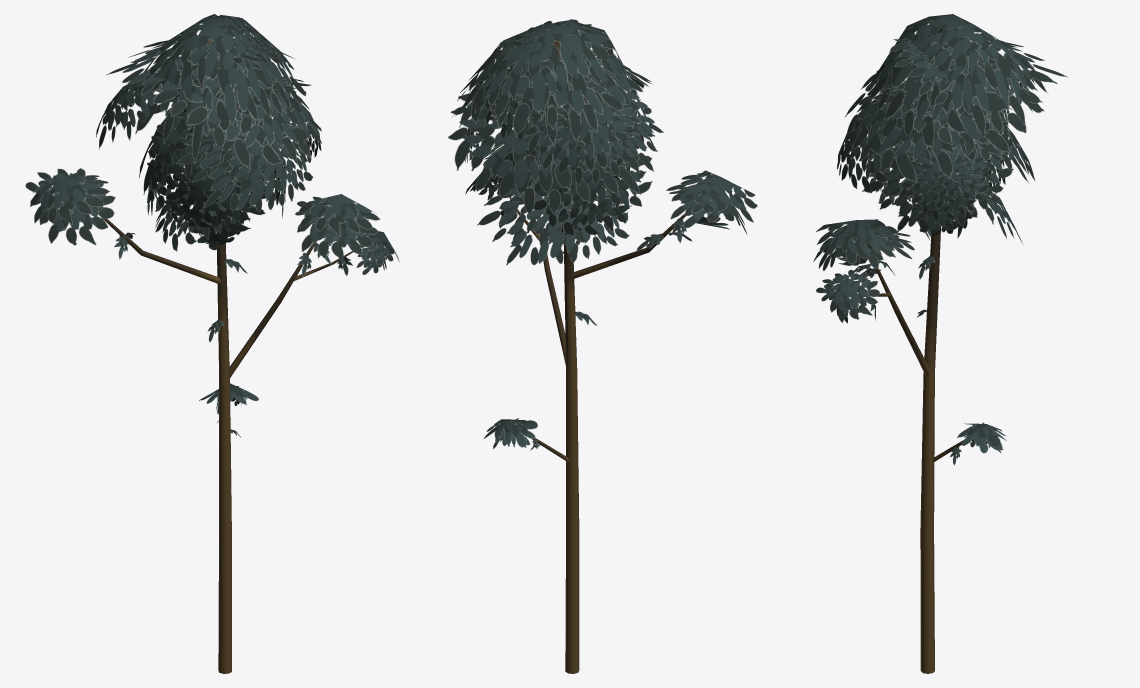
File: env_tree_tallleaf1_painty_01_v1.glb
3 renders of one model, left to right at view 1: azimuth 30°, elevation 25°; view 2: azimuth 150°, elevation 25°; view 3: azimuth 270°, elevation 25°, orthographic. The views are drawn at different scales.
Visible parts, largest first — view 1: Cylinder.002; view 2: Cylinder.002; view 3: Cylinder.002.
Part boxes in pixels (<box>): Cylinder.002: <box>25,14,399,673</box>; Cylinder.002: <box>448,19,757,673</box>; Cylinder.002: <box>813,14,1068,673</box>.
Bounding box in the file's own units: 13.6 × 24.86 × 11.5.
Materials: 1 (1 with a texture image).
